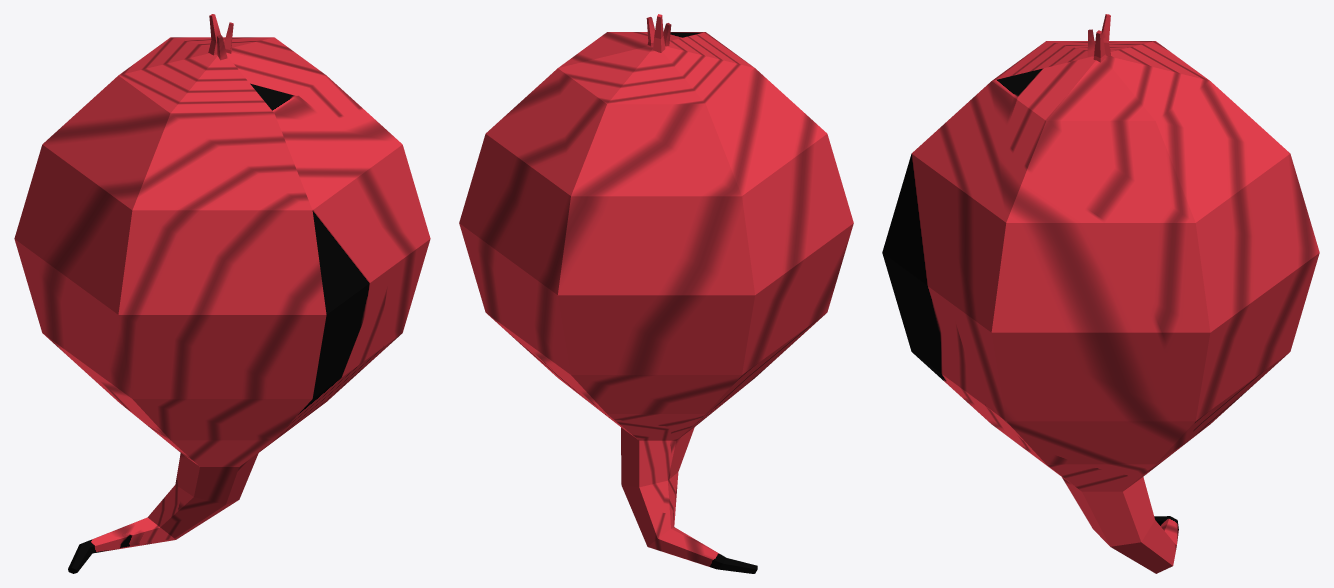
Rendered from Beetroot.fbx.
The picture shows the model from 3 angles, left to right: view 1: azimuth 30°, elevation 25°; view 2: azimuth 150°, elevation 25°; view 3: azimuth 270°, elevation 25°; orthographic projection. The views are drawn at different scales.
Parts seen in each view (by area): view 1: Beetroot; view 2: Beetroot; view 3: Beetroot.
Part boxes in pixels (left/top/right/bottom): Beetroot: left=14, top=14, right=430, bottom=573; Beetroot: left=459, top=14, right=853, bottom=573; Beetroot: left=882, top=14, right=1319, bottom=573.
Bounding box in the file's own units: 173 × 289 × 200.
